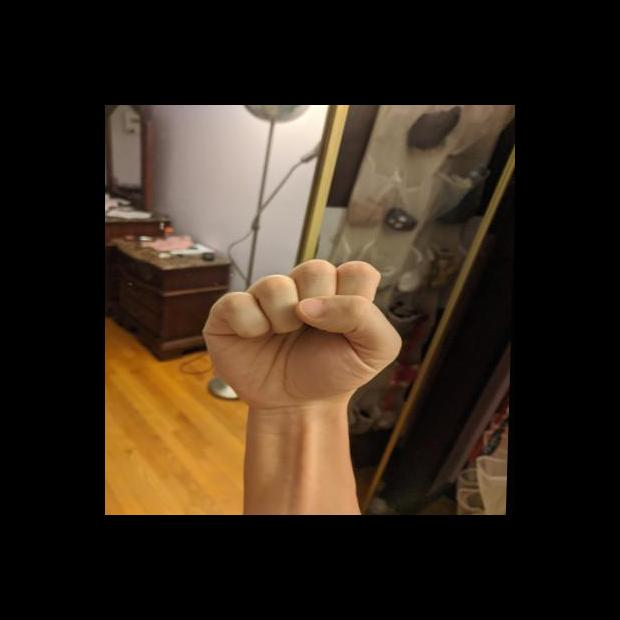R: (196, 257, 410, 415)
